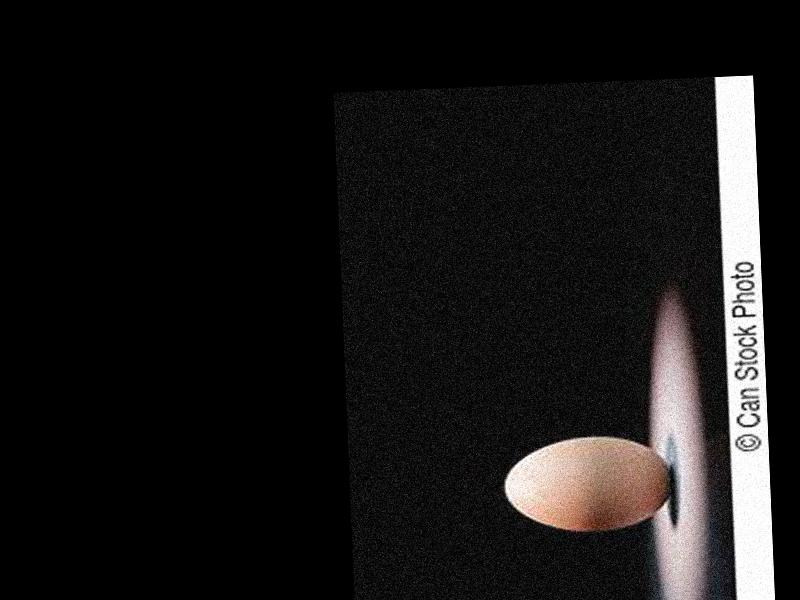Eggs: (503, 433, 675, 537)
